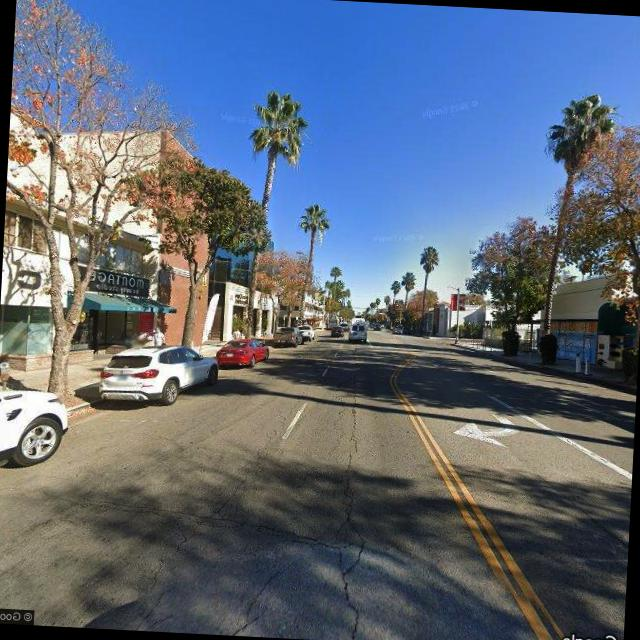crack: (124, 477, 384, 640)
